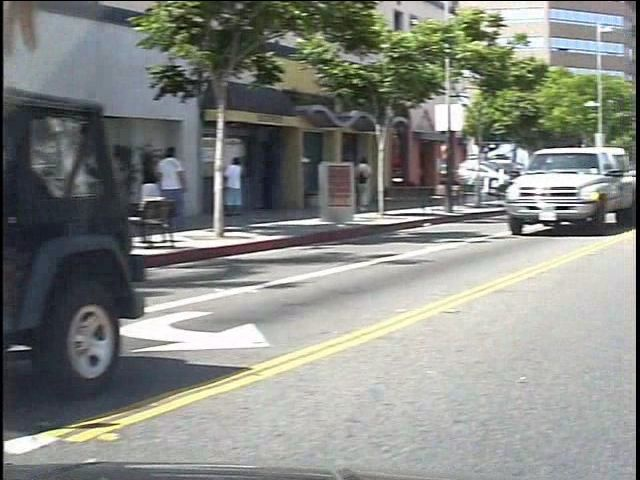person: (150, 147, 181, 236), (240, 144, 264, 227), (170, 143, 204, 198), (370, 154, 391, 215)
